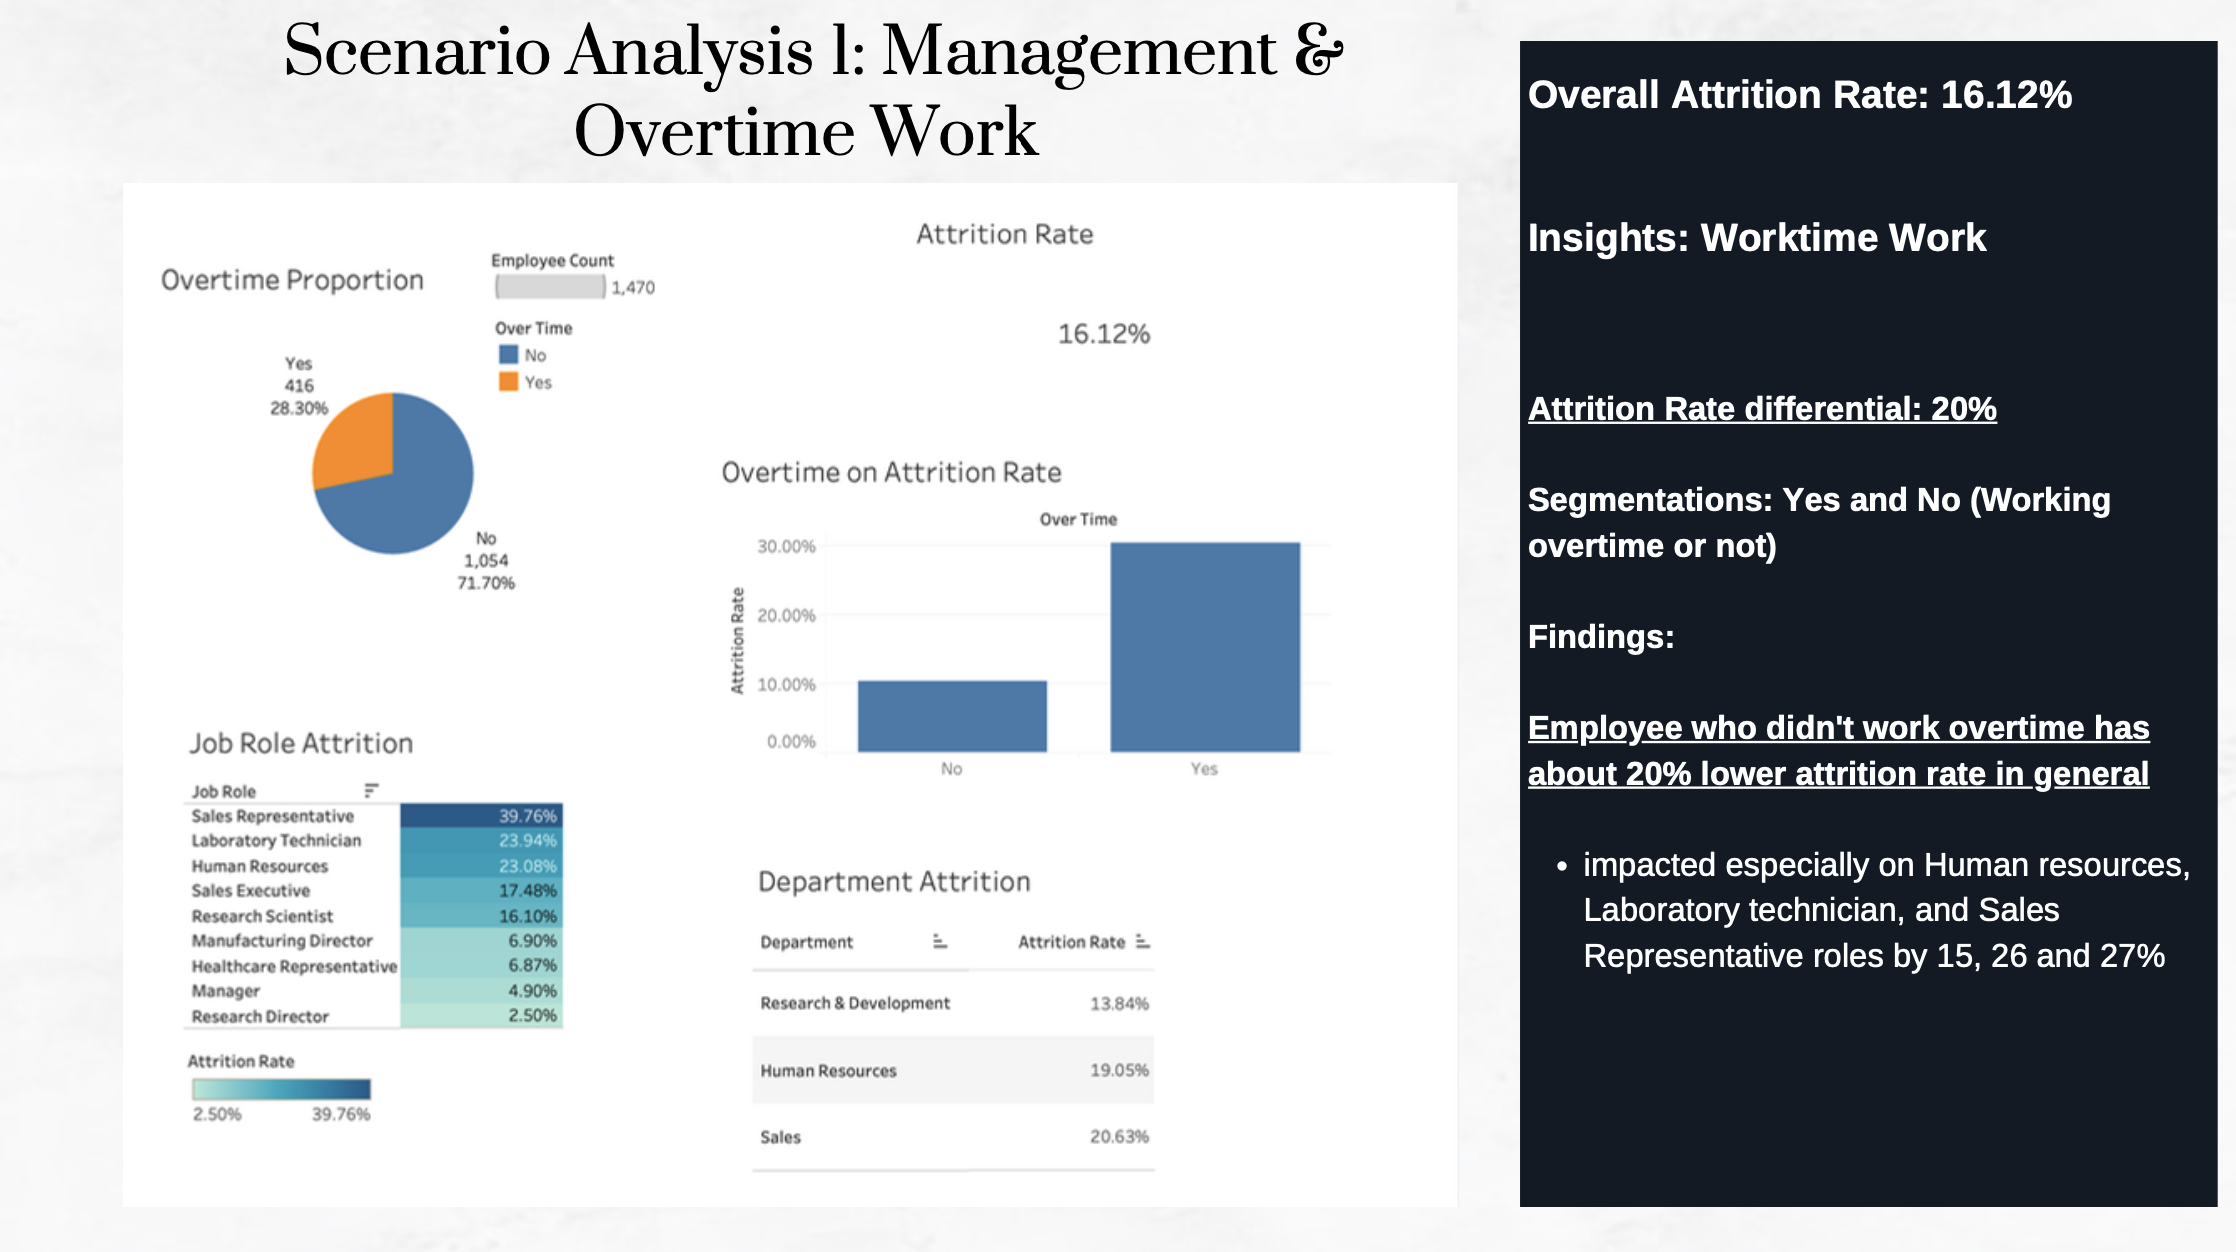

Layout of this report page (visuals, bound fields, positions):
{"tool":"tableau","page":{"name":"Scenario A","canvas":[1000,800],"ordinal":3},"visuals":[{"type":"worksheet","title":"Attrition Rate","mark":"Automatic","box":[593,30,181,140]},{"type":"legend","title":"Overtime Proportion","param":"[federated.19oo0ka09x9gx516oha0k1291z12].[sum:EmployeeCount:qk]","box":[283,60,140,38]},{"type":"worksheet","title":"Overtime Proportion","mark":"Pie","box":[35,64,351,281]},{"type":"legend","title":"Overtime Proportion","param":"[federated.19oo0ka09x9gx516oha0k1291z12].[none:OverTime:nk]","box":[286,110,140,58]},{"type":"worksheet","title":"A2","mark":"Automatic","rows":["Calculation_4789296751451111425"],"cols":["OverTime"],"box":[449,206,455,247]},{"type":"worksheet","title":"Job Role Attrition","mark":"Square","rows":["JobRole"],"box":[56,406,281,230]},{"type":"worksheet","title":"Department Attrition","mark":"Automatic","rows":["Department"],"box":[476,508,298,233]},{"type":"legend","title":"Job Role Attrition","param":"[federated.19oo0ka09x9gx516oha0k1291z12].[usr:Calculation_4789296751451111425:qk","box":[59,651,140,76]}]}

Visuals, with their boxes on the page's 1000x800 design canvas (x1, y1, x2, y2). These are canvas units, not pixel positions in the 2236x1252 screenshot, which may show the page scaled, cropped or inside an application window:
"Attrition Rate" worksheet: left=593, top=30, right=774, bottom=170
"Overtime Proportion" legend: left=283, top=60, right=423, bottom=98
"Overtime Proportion" worksheet (Pie marks): left=35, top=64, right=386, bottom=345
"Overtime Proportion" legend: left=286, top=110, right=426, bottom=168
"A2" worksheet: left=449, top=206, right=904, bottom=453
"Job Role Attrition" worksheet (Square marks): left=56, top=406, right=337, bottom=636
"Department Attrition" worksheet: left=476, top=508, right=774, bottom=741
"Job Role Attrition" legend: left=59, top=651, right=199, bottom=727
